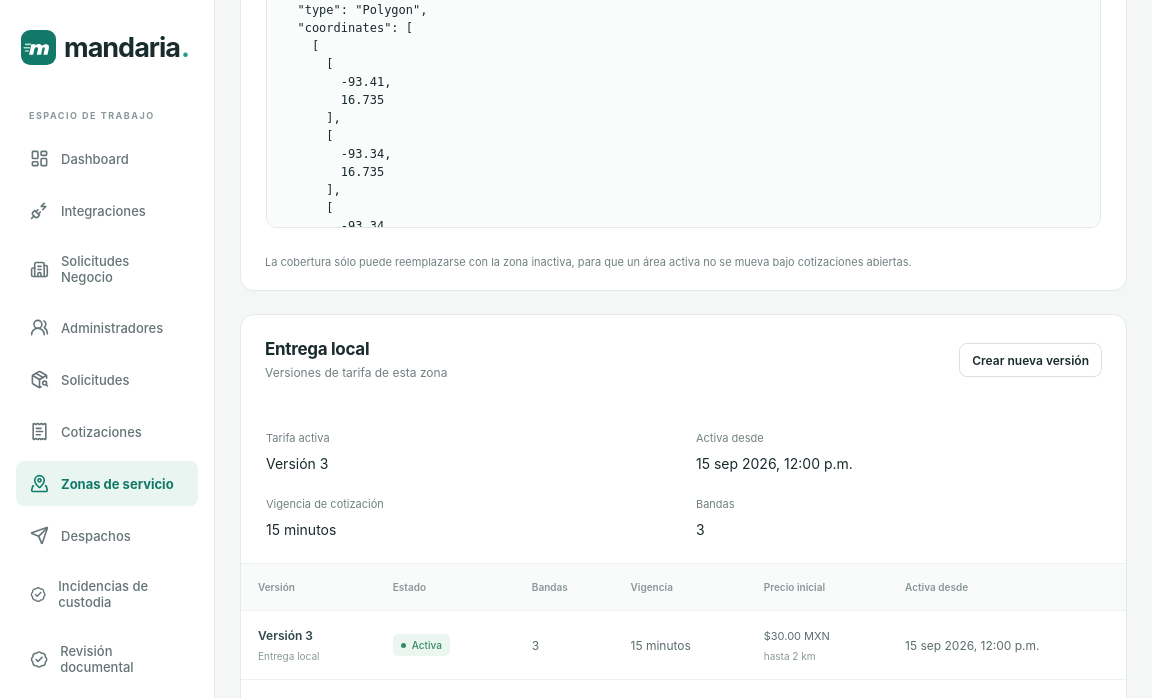
Test: rate plan versions inside a zone › clones the active version into a new draft
(page scrolled)
Click the button "Crear nueva versión": (1031, 360) [959, 344, 1102, 378]
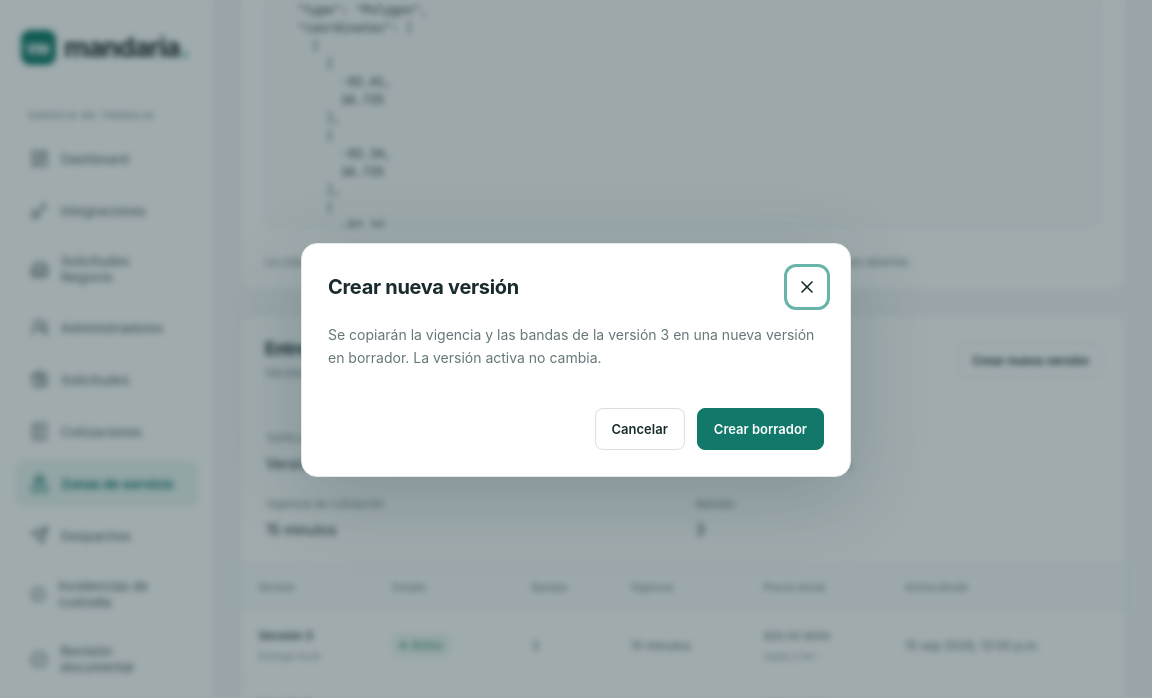
Click the button "Crear borrador": (760, 429) [697, 408, 824, 450]
(page scrolled)
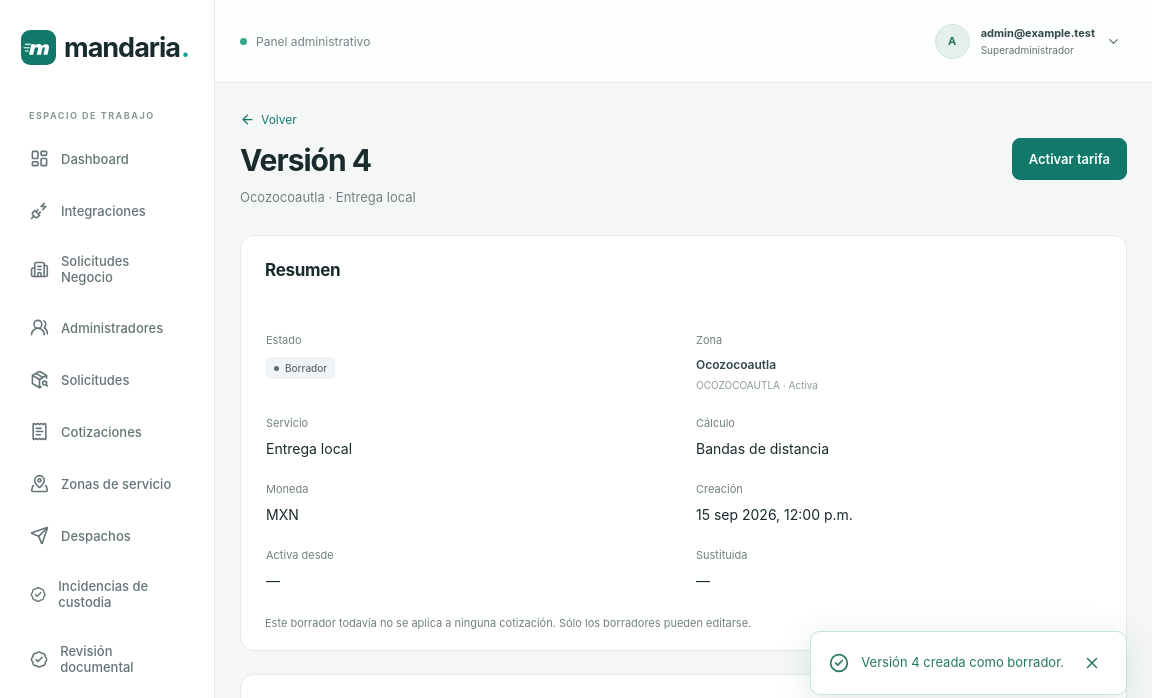
Check: the heading "Versión 4" is shown, box [240, 142, 371, 178]
